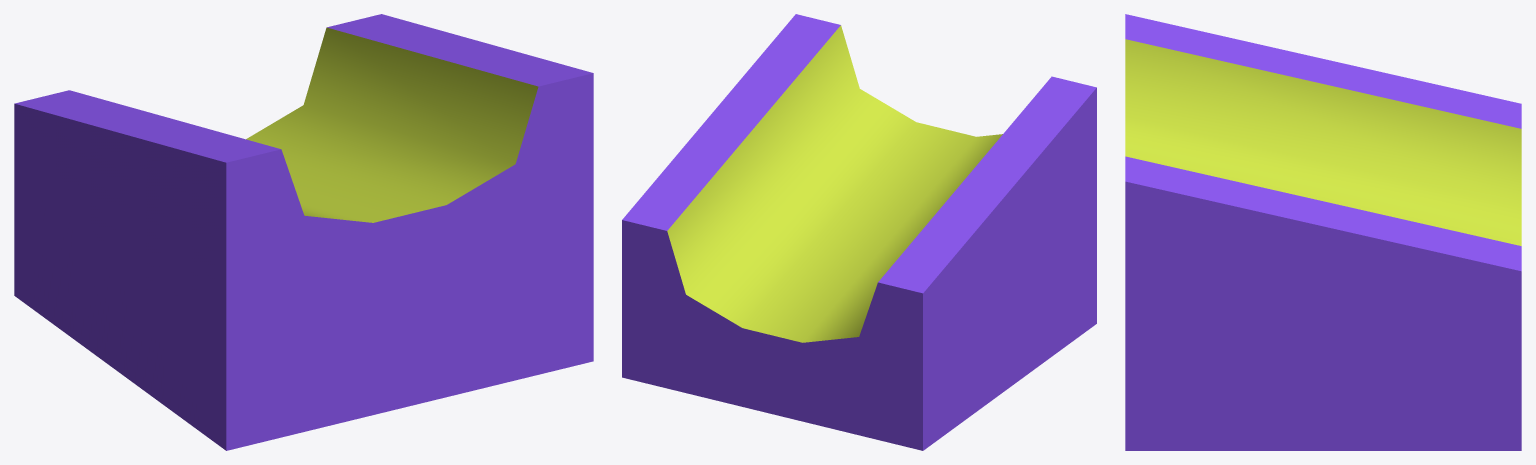
File: slant_solid_A.fbx
3 renders of one model, left to right at view 1: azimuth 30°, elevation 25°; view 2: azimuth 150°, elevation 25°; view 3: azimuth 270°, elevation 25°, orthographic. The views are drawn at different scales.
Parts seen in each view (by area): view 1: slant_solid_A; view 2: slant_solid_A; view 3: slant_solid_A.
Boxes of the visible parts, <box> form: slant_solid_A: <box>14,14,593,450</box>; slant_solid_A: <box>622,14,1096,450</box>; slant_solid_A: <box>1125,14,1521,450</box>.
Size of the model in its own units: 10 by 7.5 by 10.
